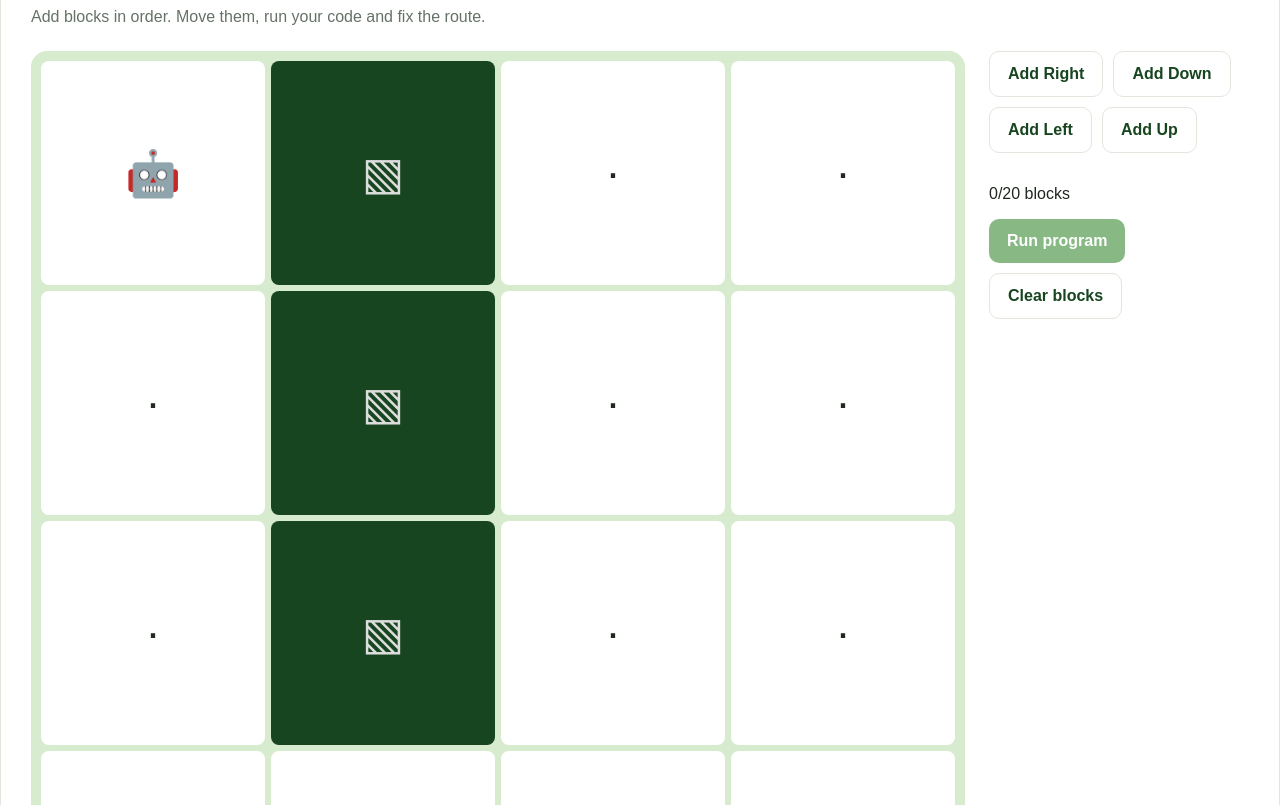
Test case: does not award a blocked or incomplete route
Click the button "Add Right" at (1046, 74), box left=989, top=51, right=1103, bottom=97
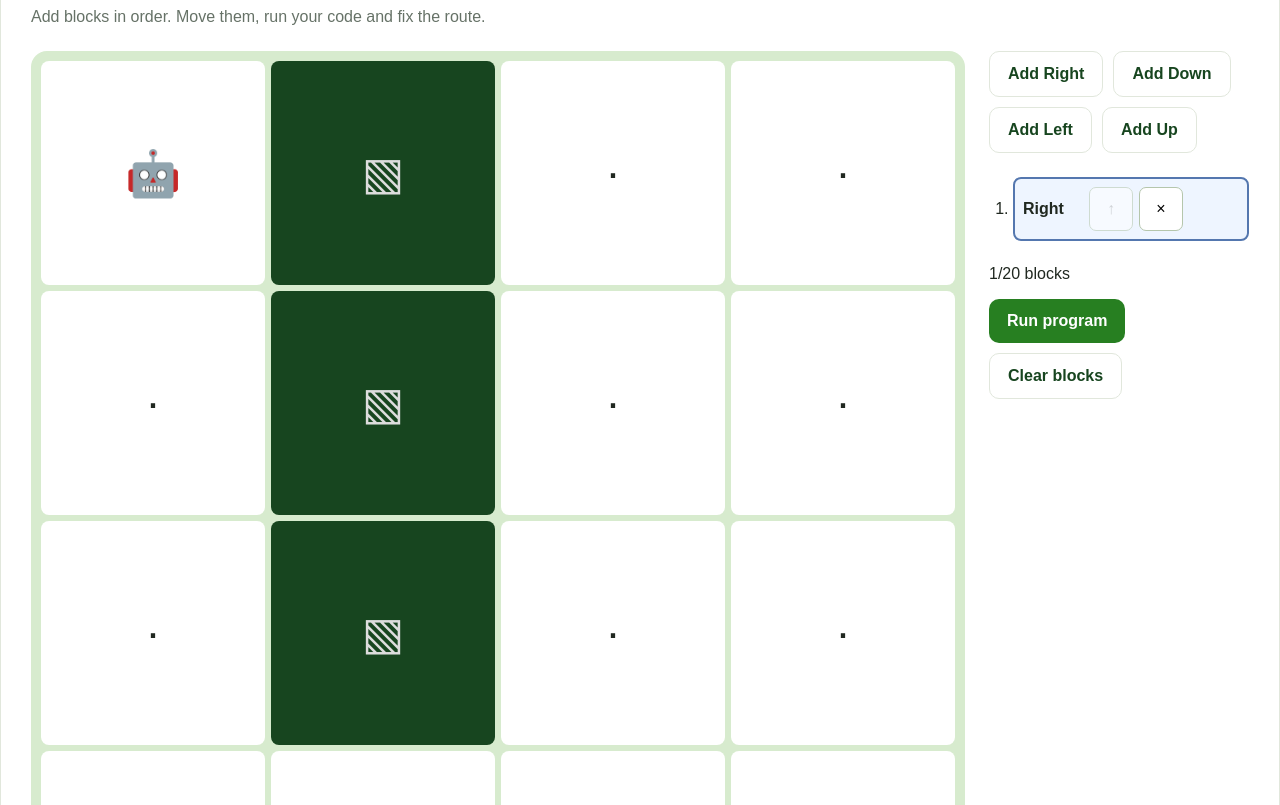
Click the button "Run program" at (1057, 321), box left=989, top=299, right=1126, bottom=343
(page scrolled)
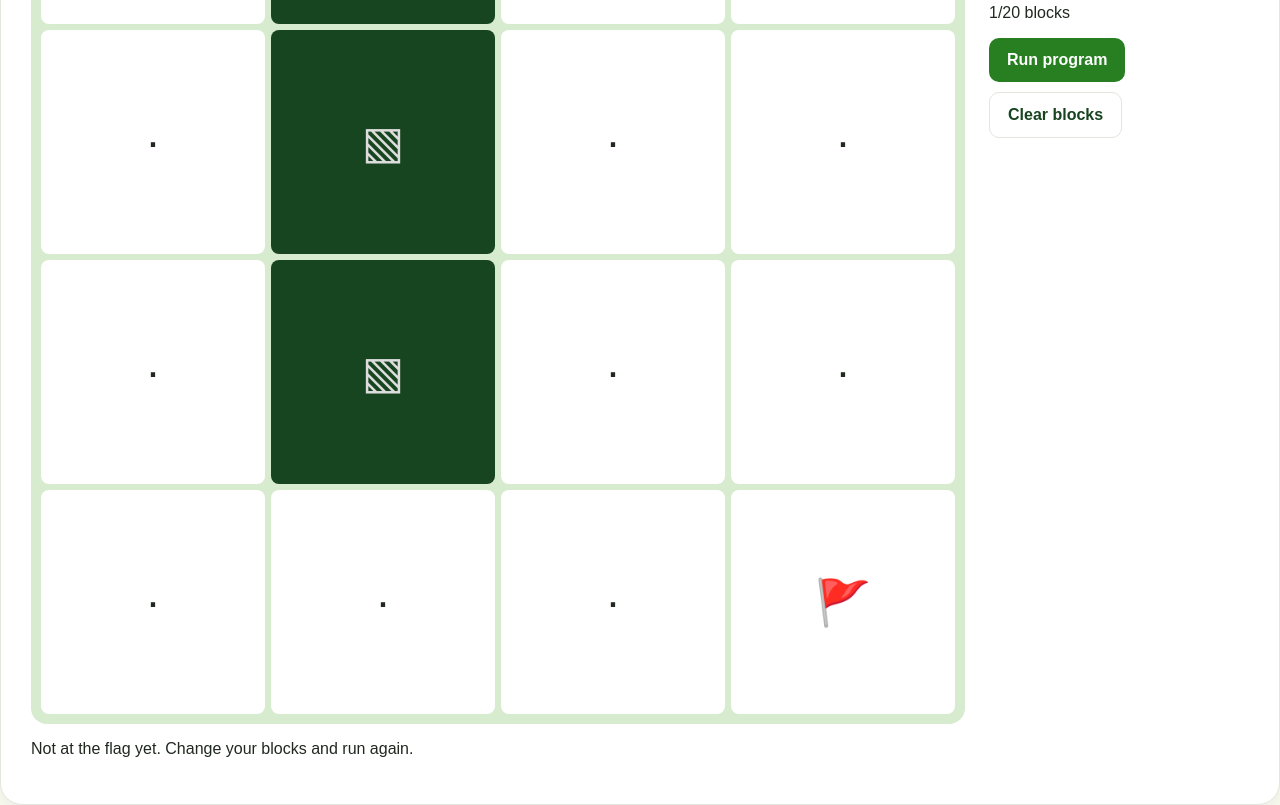
Now the message shows "Not at the flag", box left=31, top=740, right=414, bottom=757
